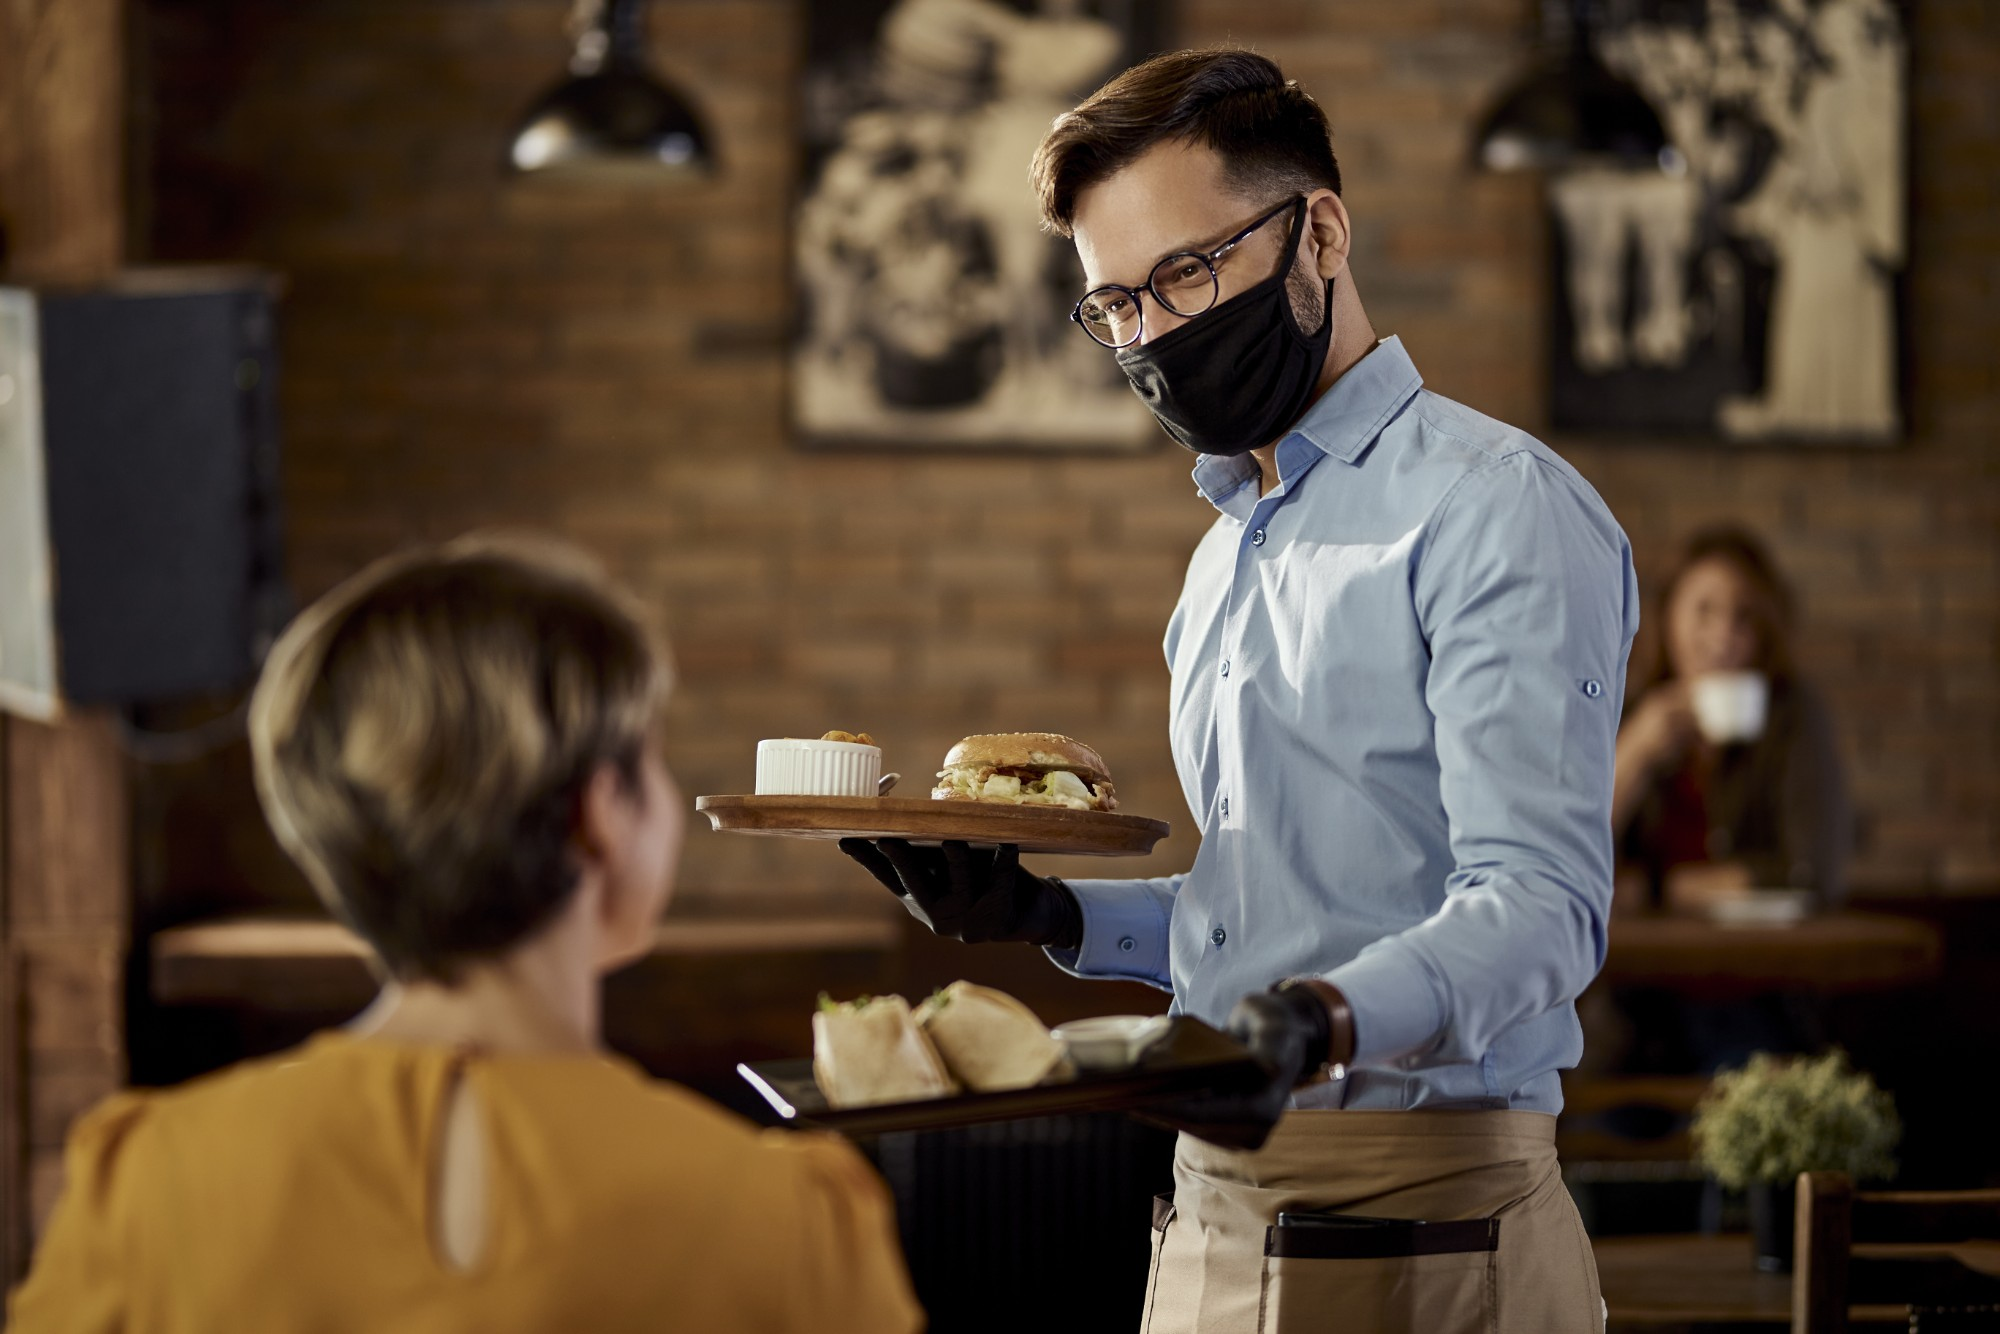with_mask: (1056, 209, 1322, 440)
